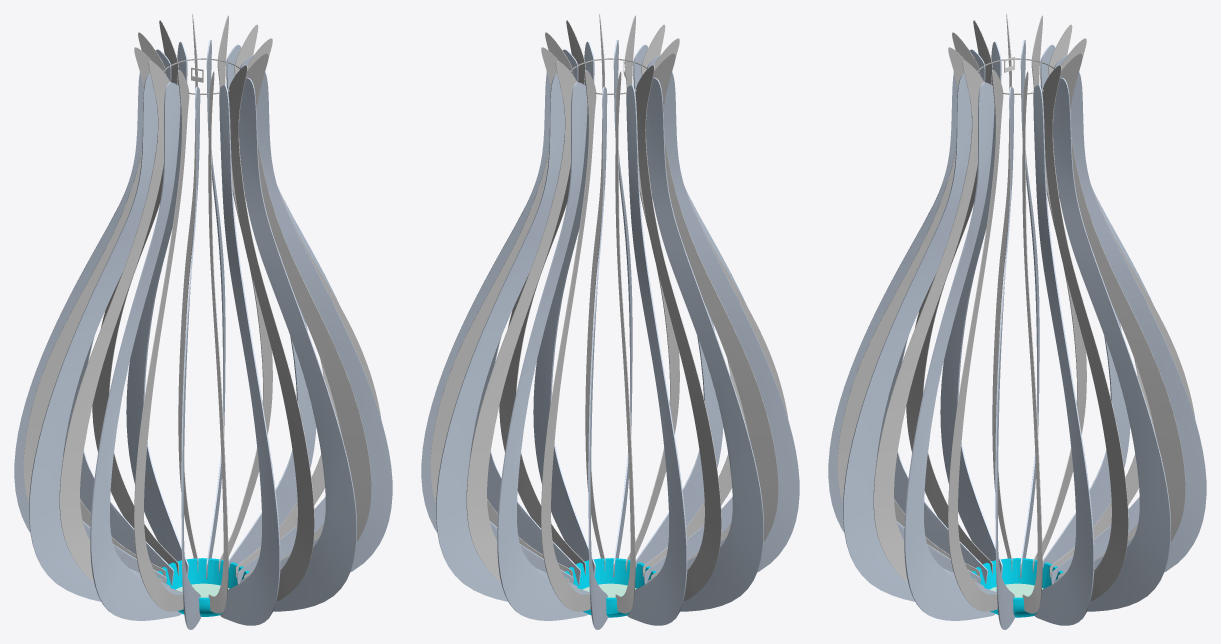
The model's file is Uniqueverse-mechanisms-blendered-missing2.fbx.
The picture shows the model from 3 angles, left to right: view 1: azimuth 30°, elevation 25°; view 2: azimuth 150°, elevation 25°; view 3: azimuth 270°, elevation 25°; orthographic projection.
Parts seen in each view (by area): view 1: s.0062_Thicken, s.0089_Thicken, s.0085; view 2: s.0062_Thicken, s.0089_Thicken, s.0085; view 3: s.0062_Thicken, s.0089_Thicken, s.0085.
Boxes of the visible parts, left/top/right/bottom form: s.0062_Thicken: left=14, top=40, right=392, bottom=629; s.0089_Thicken: left=23, top=14, right=381, bottom=613; s.0085: left=158, top=558, right=249, bottom=616; s.0062_Thicken: left=421, top=40, right=799, bottom=629; s.0089_Thicken: left=430, top=14, right=788, bottom=613; s.0085: left=565, top=558, right=656, bottom=617; s.0062_Thicken: left=828, top=40, right=1206, bottom=629; s.0089_Thicken: left=837, top=14, right=1195, bottom=613; s.0085: left=972, top=558, right=1063, bottom=617.
Size of the model in its own units: 6081 by 9926 by 6081.
